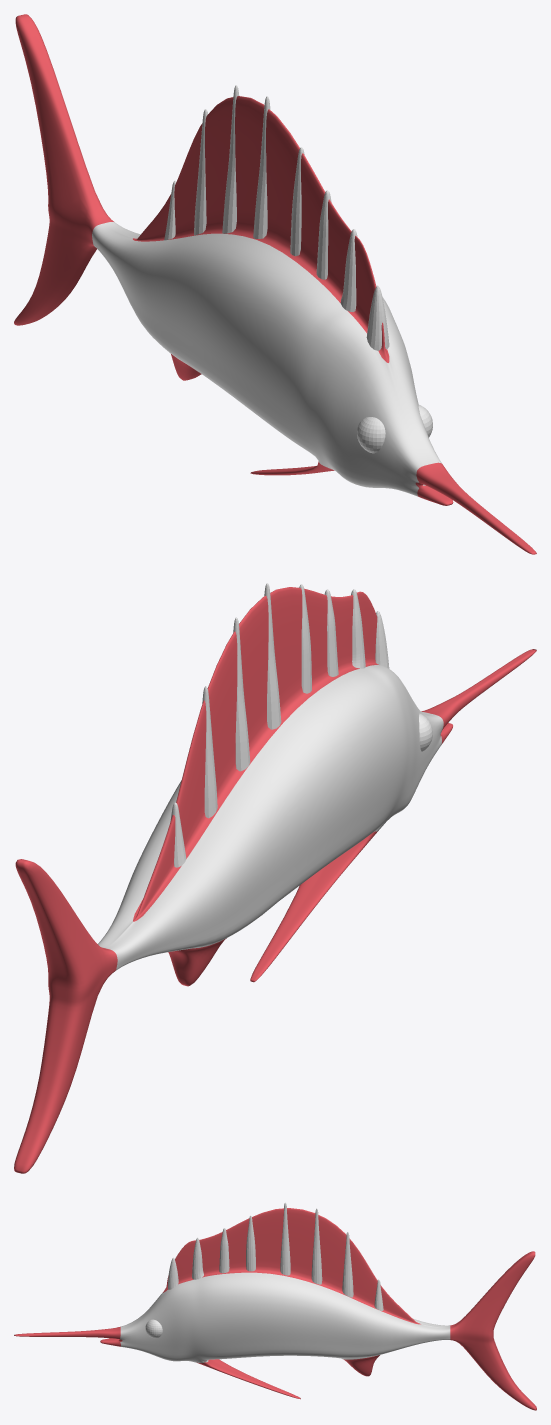
The model's file is Sail fish.fbx.
3 renders of one model, top to bottom at view 1: azimuth 30°, elevation 25°; view 2: azimuth 150°, elevation 25°; view 3: azimuth 270°, elevation 25°, orthographic. The views are drawn at different scales.
Visible parts, largest first — view 1: Plane.001, Sphere.005; view 2: Plane.001; view 3: Plane.001, Sphere.003.
Boxes of the visible parts, box(x1,y1,x2,y2) form: Plane.001: box(14, 14, 536, 554); Sphere.005: box(357, 417, 385, 453); Plane.001: box(14, 583, 536, 1173); Plane.001: box(14, 1202, 536, 1410); Sphere.003: box(145, 1319, 162, 1338).
Size of the model in its own units: 208 by 651 by 1488.
